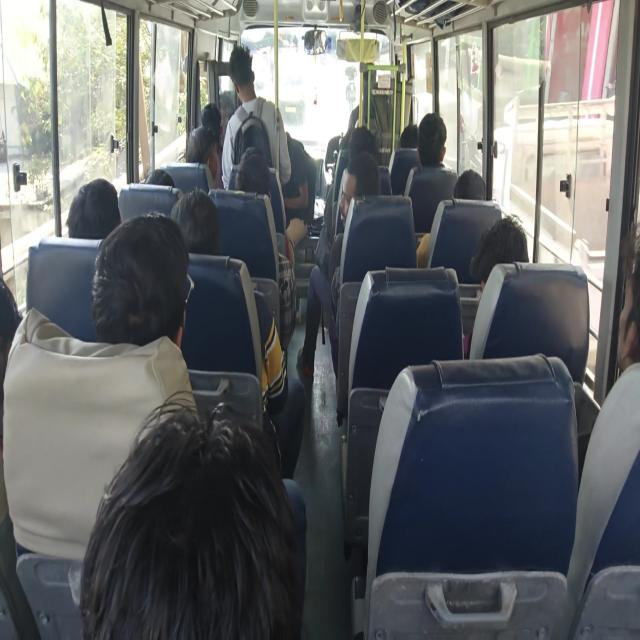person: (74, 400, 283, 586), (80, 233, 179, 336), (61, 156, 131, 260), (591, 275, 640, 414), (0, 284, 46, 421), (177, 118, 242, 194), (483, 215, 538, 298), (340, 156, 402, 223), (424, 108, 459, 179), (230, 152, 272, 210), (226, 53, 260, 119), (177, 199, 219, 242), (194, 94, 228, 143), (455, 169, 488, 209), (348, 126, 385, 161), (148, 154, 186, 188), (335, 109, 365, 152), (399, 122, 436, 154), (244, 134, 274, 169)
